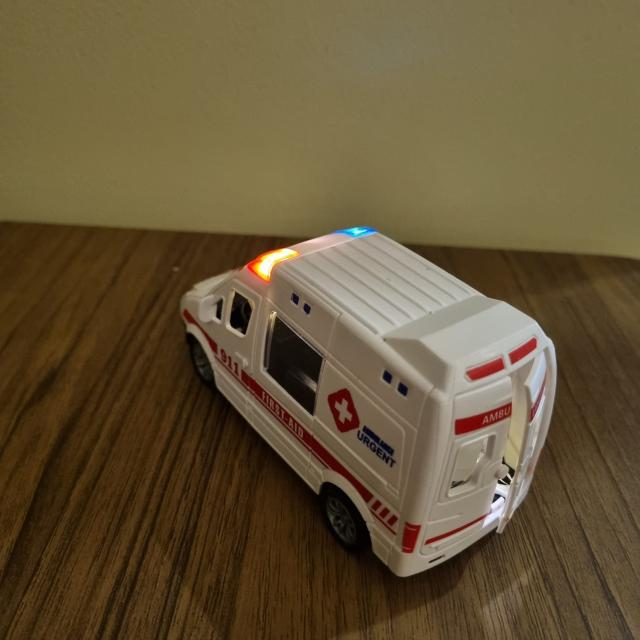emergency-vehicle: (178, 224, 560, 580)
